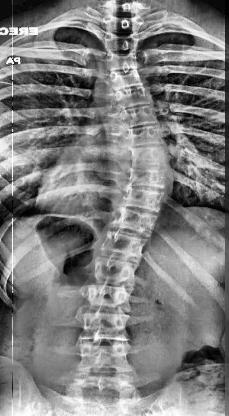Vertebrae: (92, 253, 140, 289), (79, 312, 131, 344), (76, 344, 132, 372), (100, 234, 148, 262), (110, 212, 160, 237), (123, 184, 170, 210), (126, 144, 173, 170), (86, 281, 130, 306), (125, 122, 168, 146), (124, 170, 173, 191), (113, 86, 157, 108), (120, 104, 162, 126), (106, 69, 148, 91), (106, 34, 140, 56), (106, 55, 140, 73), (130, 306, 130, 310)
